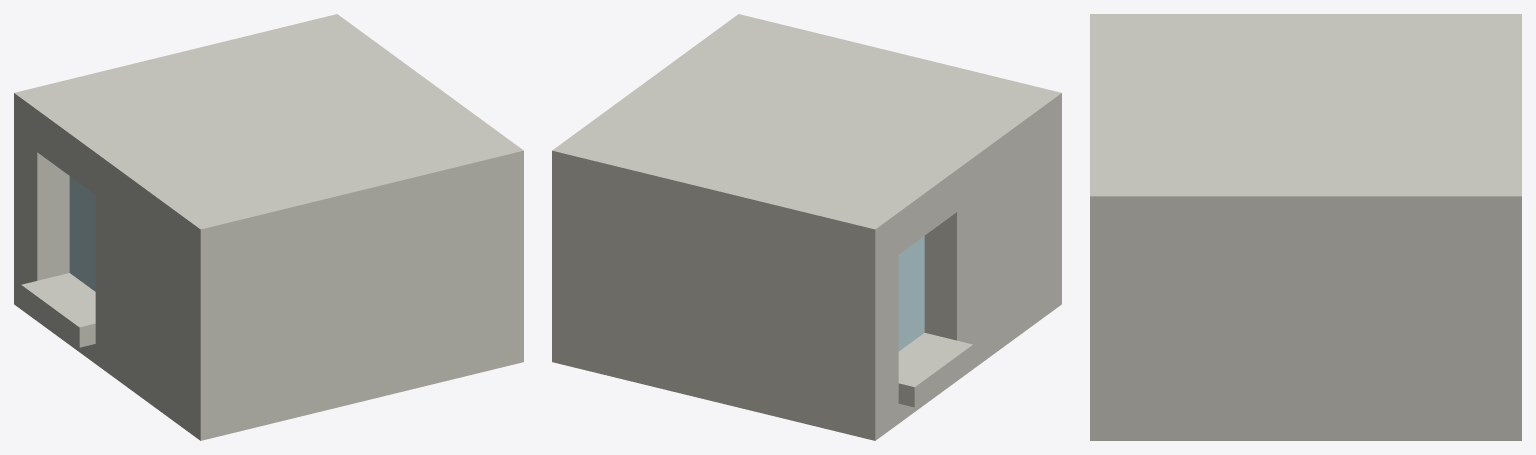
The model's file is building_054.glb.
3 views of the same model, side by side, from view 1: azimuth 30°, elevation 25°; view 2: azimuth 150°, elevation 25°; view 3: azimuth 270°, elevation 25° (orthographic). The views are drawn at different scales.
Visible parts, largest first — view 1: building_054; view 2: building_054; view 3: building_054.
Boxes of the visible parts, left/top/right/bottom form: building_054: left=14, top=14, right=523, bottom=440; building_054: left=552, top=14, right=1061, bottom=440; building_054: left=1090, top=14, right=1521, bottom=440.
Size of the model in its own units: 1.05 by 0.625 by 1.
